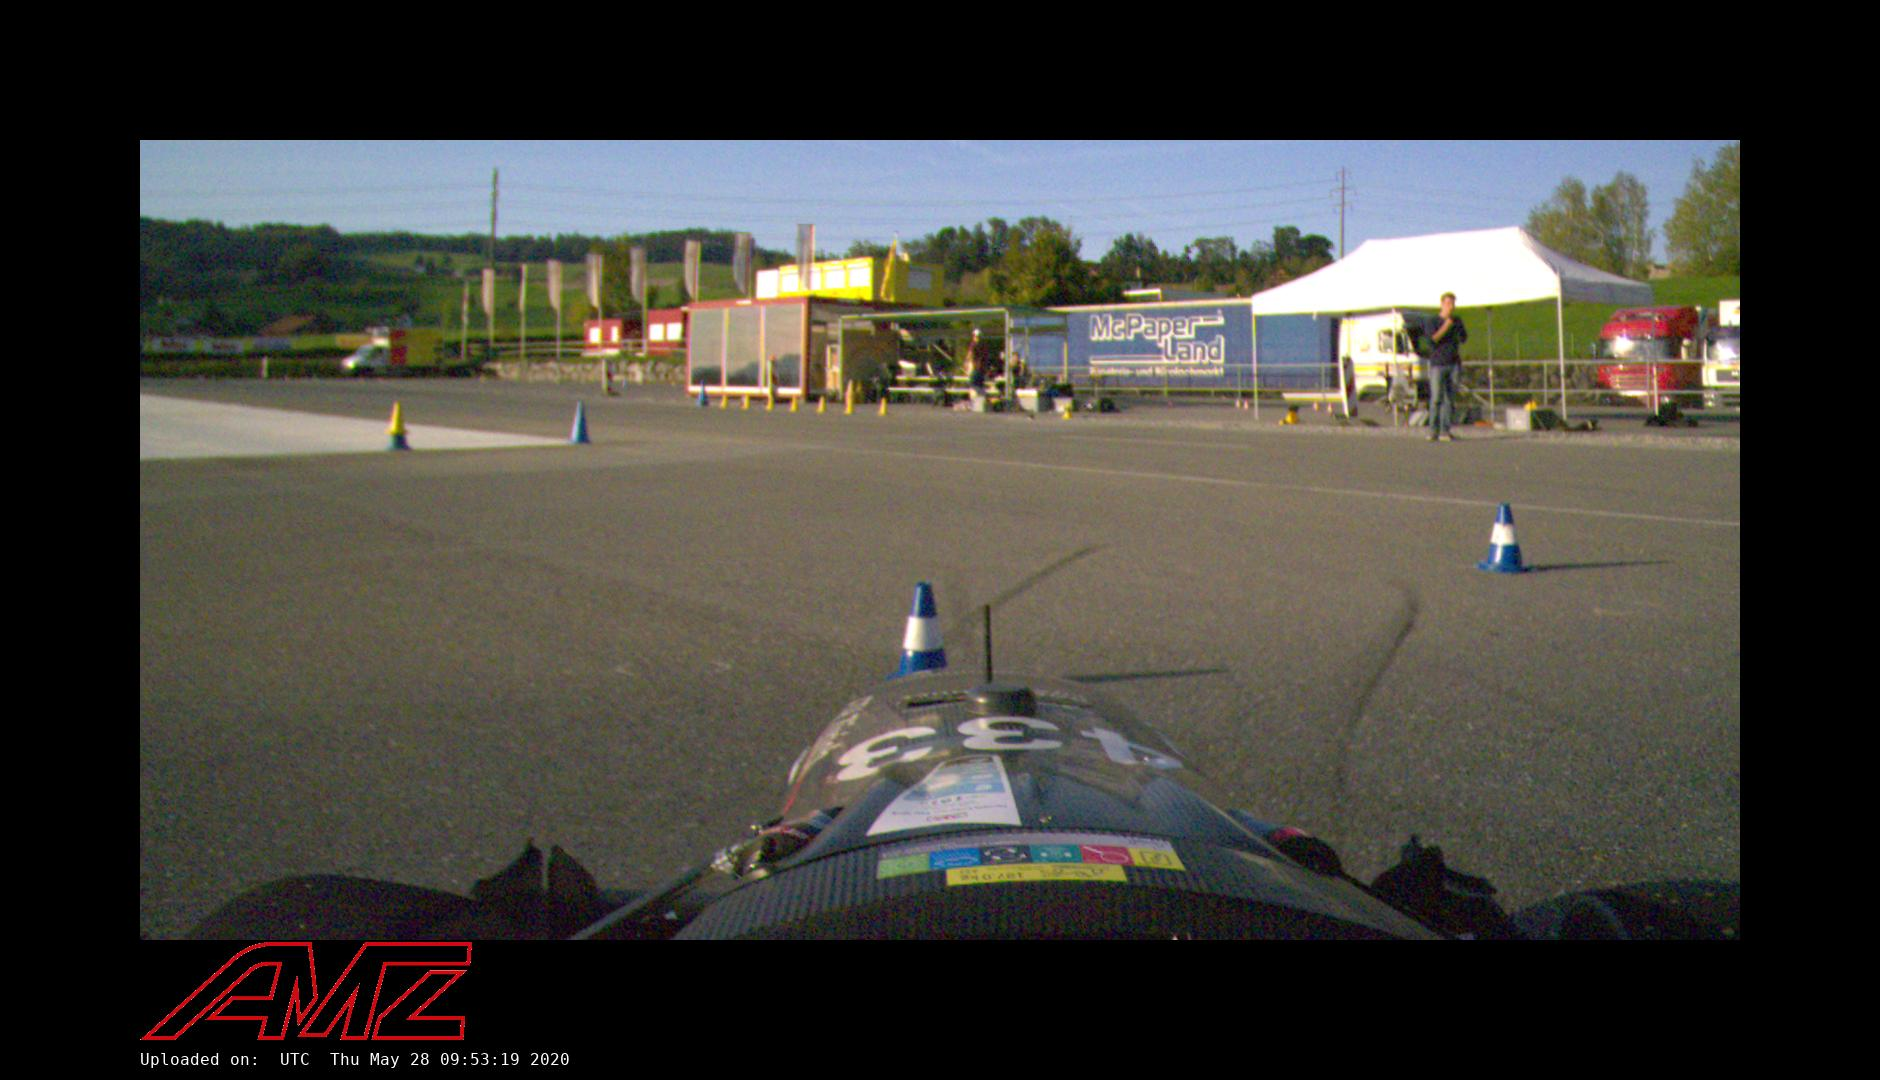blue_cone: (886, 581, 958, 688), (1473, 501, 1535, 575)
yellow_cone: (1278, 411, 1300, 425), (876, 398, 889, 417), (789, 395, 800, 413), (1060, 404, 1073, 419), (816, 396, 827, 413), (719, 395, 729, 408)
